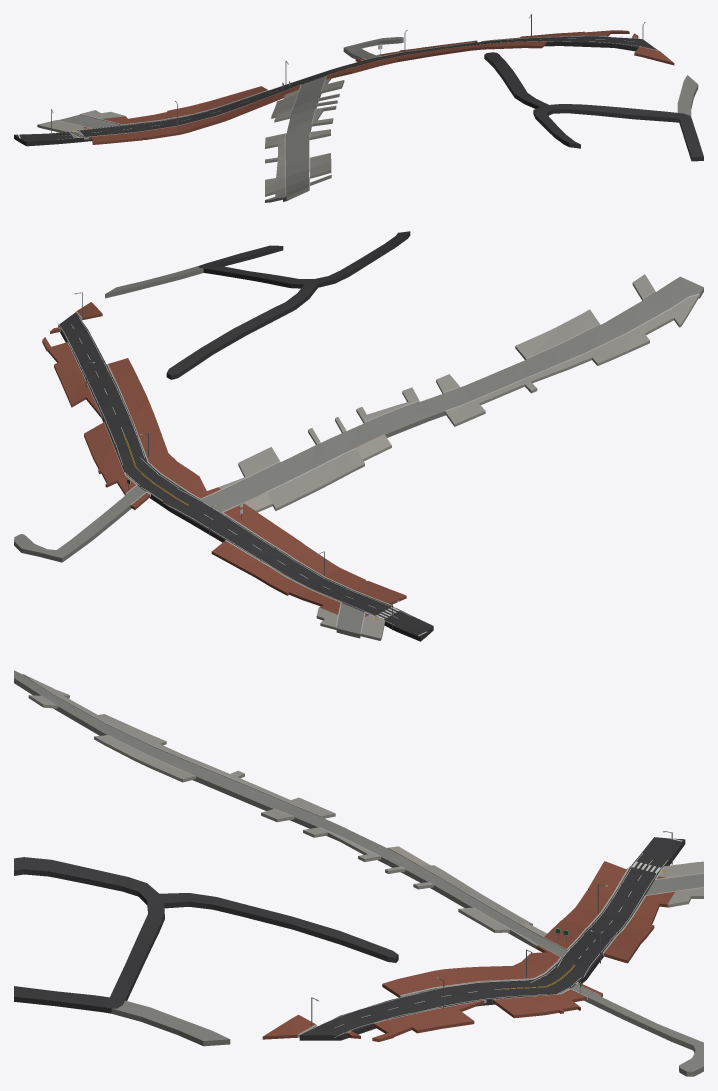
The picture shows the model from 3 angles, top to bottom: view 1: azimuth 30°, elevation 25°; view 2: azimuth 150°, elevation 25°; view 3: azimuth 270°, elevation 25°; orthographic projection. The views are drawn at different scales.
Bounding box in the file's own units: 148 × 43.04 × 146.
